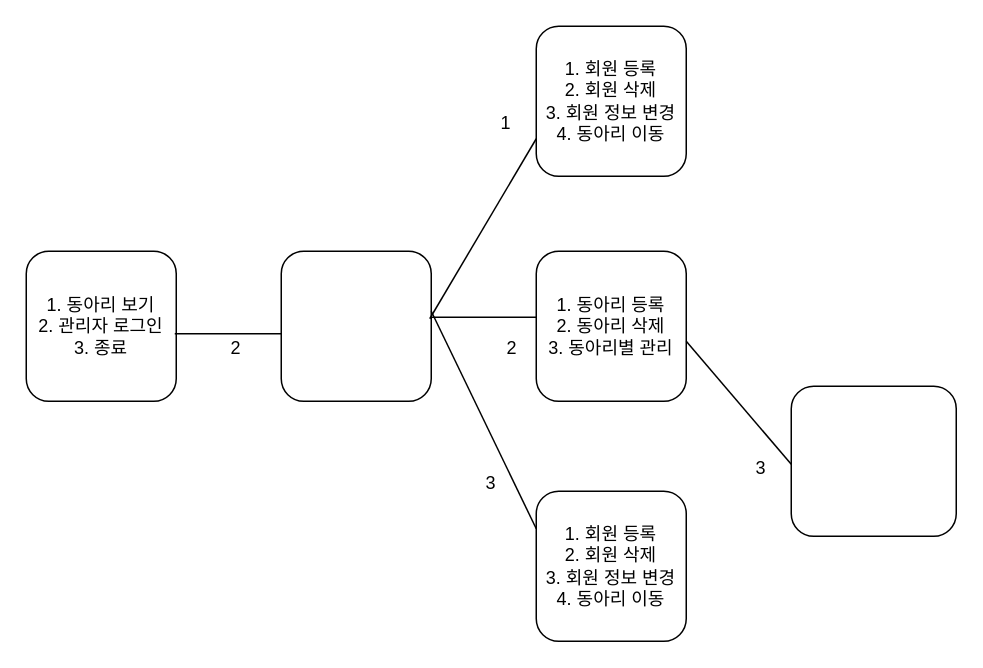
This 983x668 diagram has some shape labels left out. The box of each missing label's shape, as (x1, y1, x2, y2) in pixels:
1. 동아리 정보 관리 2. 동아리 통계 보기 3. 동아리 회원 보기: (790, 385, 956, 536)
1. 회원 관리 2. 동아리 관리 3. 활동 관리 4. 검색: (280, 250, 431, 401)
